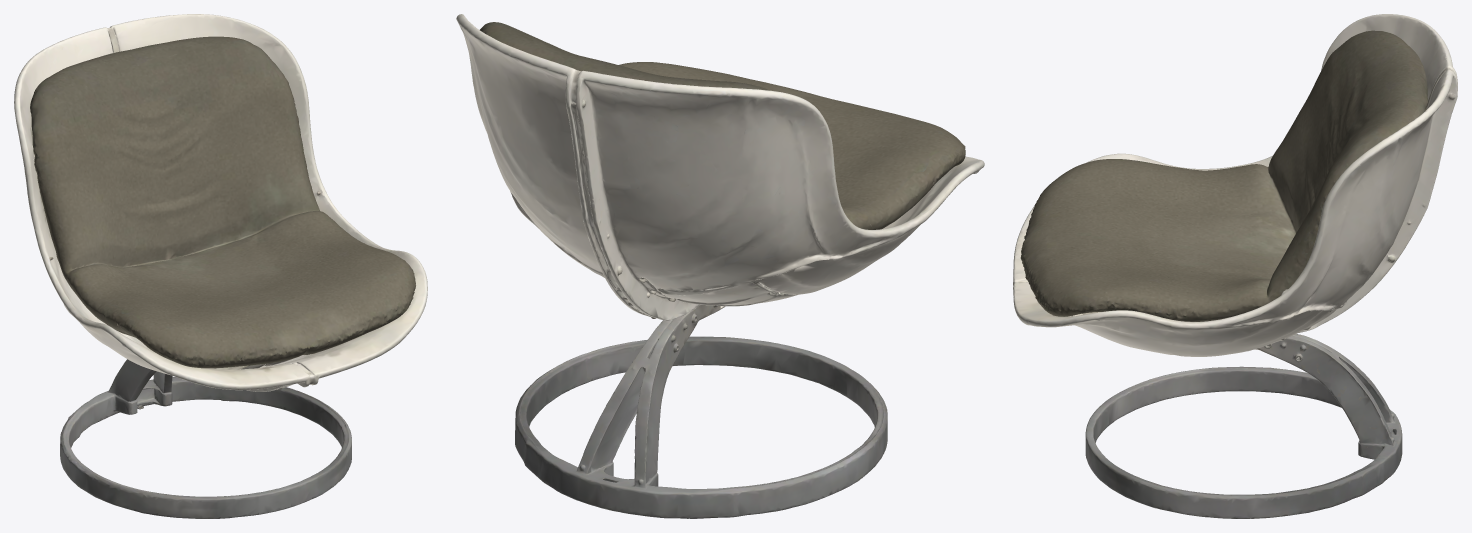
Rendered from item-13.glb.
3 renders of one model, left to right at view 1: azimuth 30°, elevation 25°; view 2: azimuth 150°, elevation 25°; view 3: azimuth 270°, elevation 25°, orthographic. The views are drawn at different scales.
Visible parts, largest first — view 1: geometry_0; view 2: geometry_0; view 3: geometry_0.
Boxes of the visible parts, left/top/right/bottom form: geometry_0: left=14, top=14, right=427, bottom=518; geometry_0: left=456, top=14, right=984, bottom=518; geometry_0: left=1013, top=14, right=1457, bottom=518.
Bounding box in the file's own units: 0.85 × 0.9611 × 0.9998.
1 material, 1 textured.
